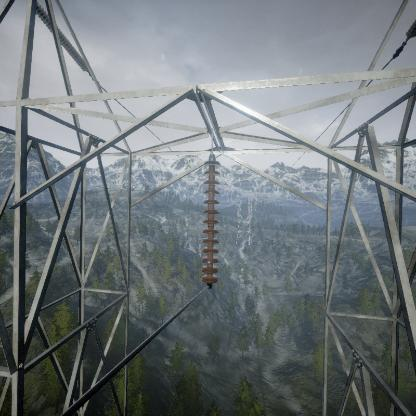insulator: (201, 152, 222, 288)
tower: (232, 190, 257, 247)
